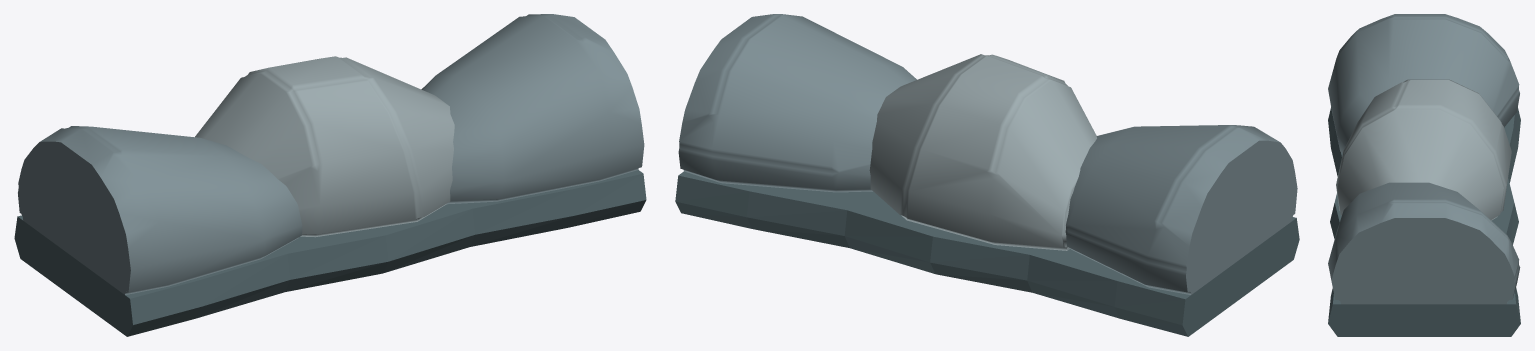
The model's file is city_shore_edges_03.glb.
3 renders of one model, left to right at view 1: azimuth 30°, elevation 25°; view 2: azimuth 150°, elevation 25°; view 3: azimuth 270°, elevation 25°, orthographic. The views are drawn at different scales.
Parts seen in each view (by area): view 1: CityShoreEdges03_Mesh; view 2: CityShoreEdges03_Mesh; view 3: CityShoreEdges03_Mesh.
Boxes of the visible parts, x1,y1,x2,y2 form: CityShoreEdges03_Mesh: [14, 14, 646, 336]; CityShoreEdges03_Mesh: [675, 14, 1299, 336]; CityShoreEdges03_Mesh: [1328, 14, 1520, 336].
Size of the model in its own units: 4 by 1.25 by 1.6.
